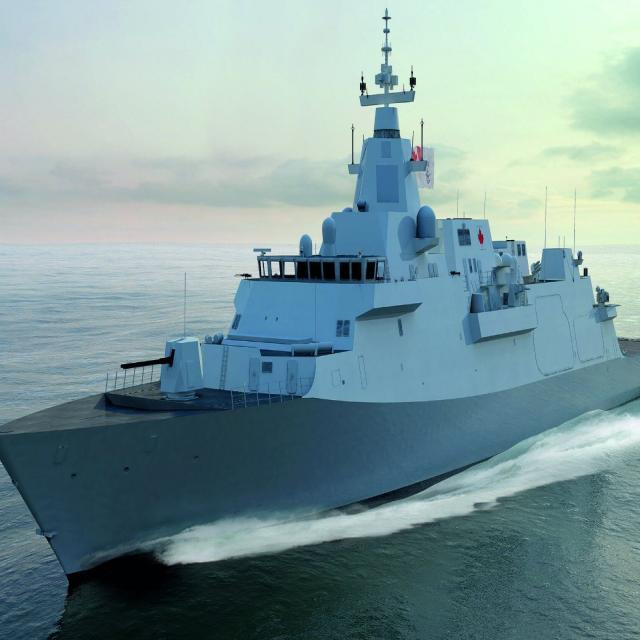Fragata: (1, 1, 466, 596)
